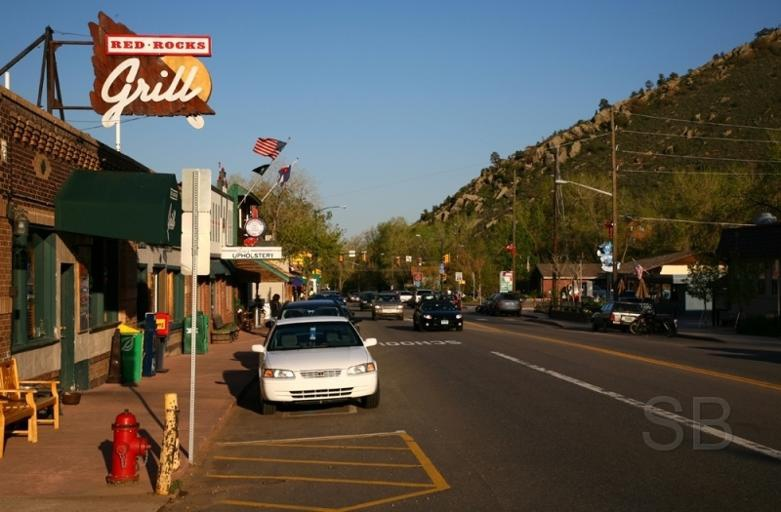non-vehicle: (628, 306, 679, 336), (474, 301, 497, 316)
